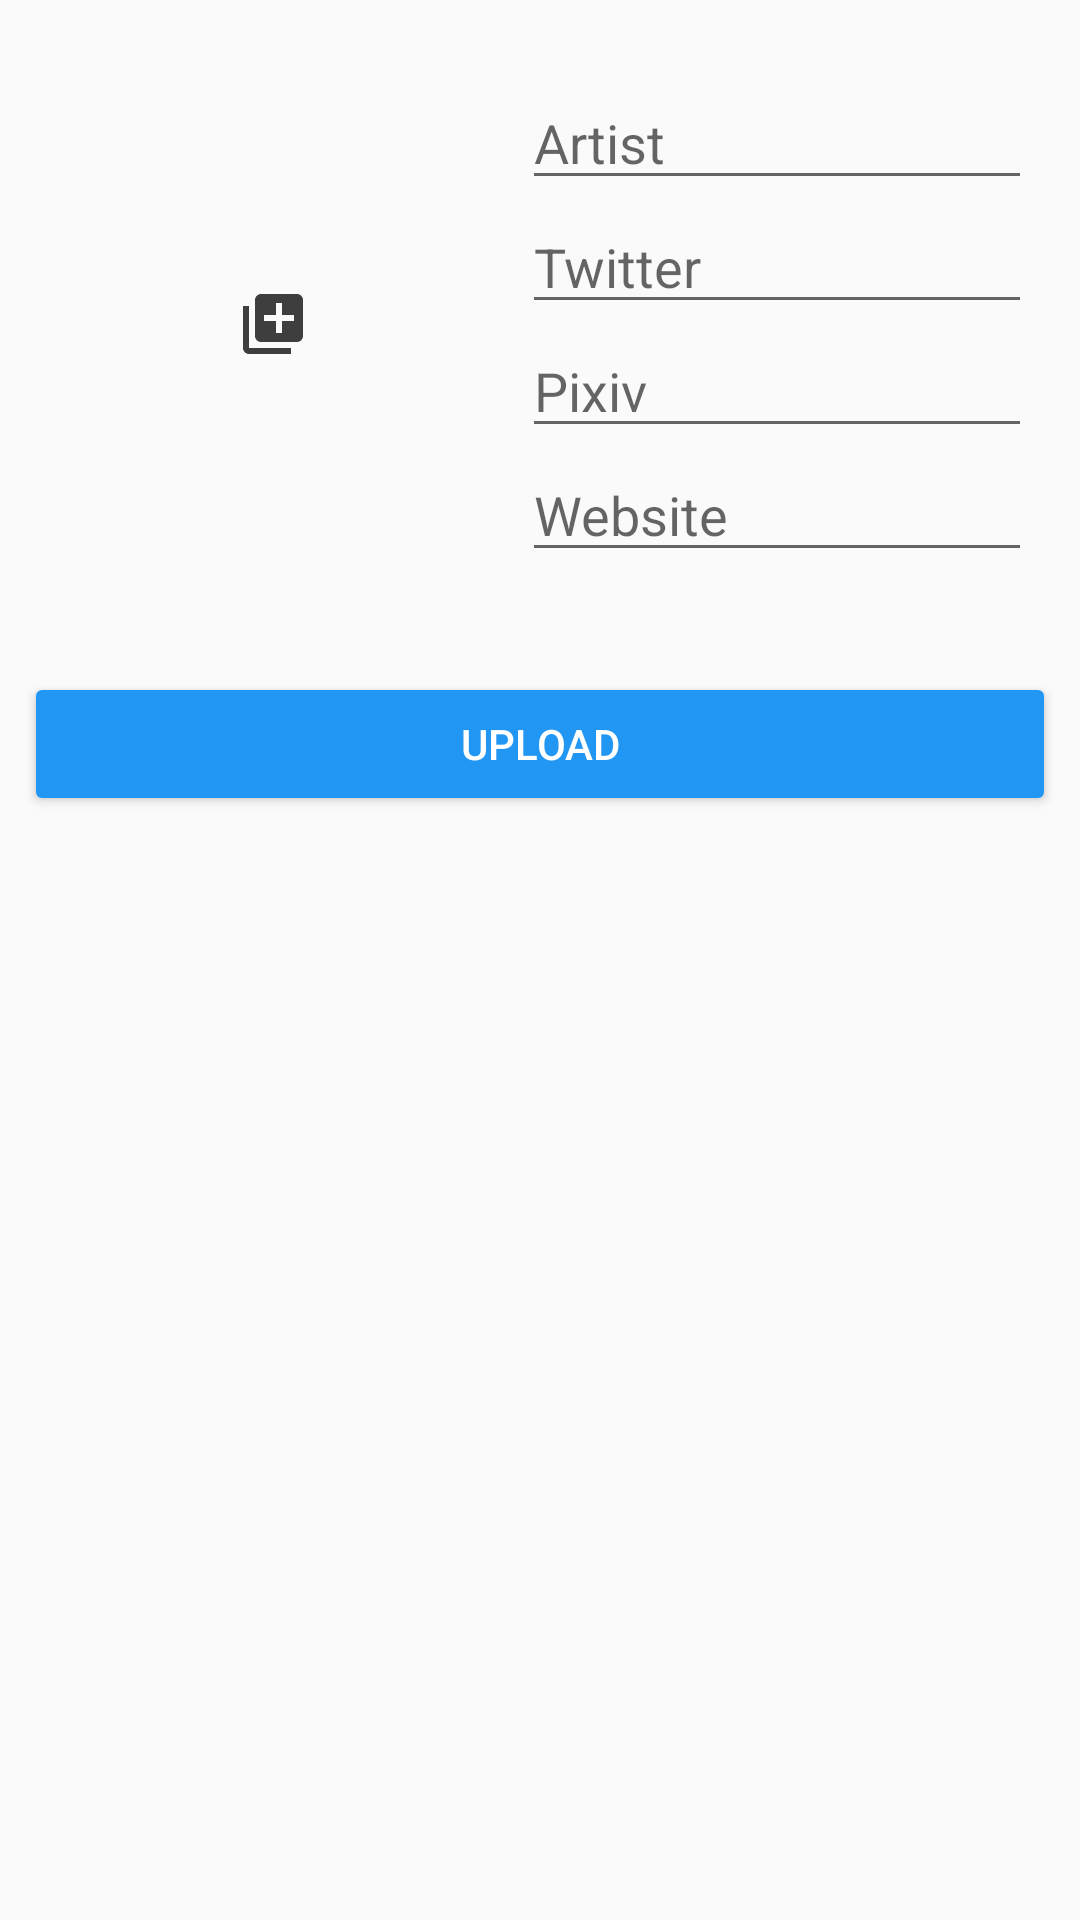

Named icons in this screenshot (1080*1920) and their centers, point (x, y):
add to photos: point (273, 324)
